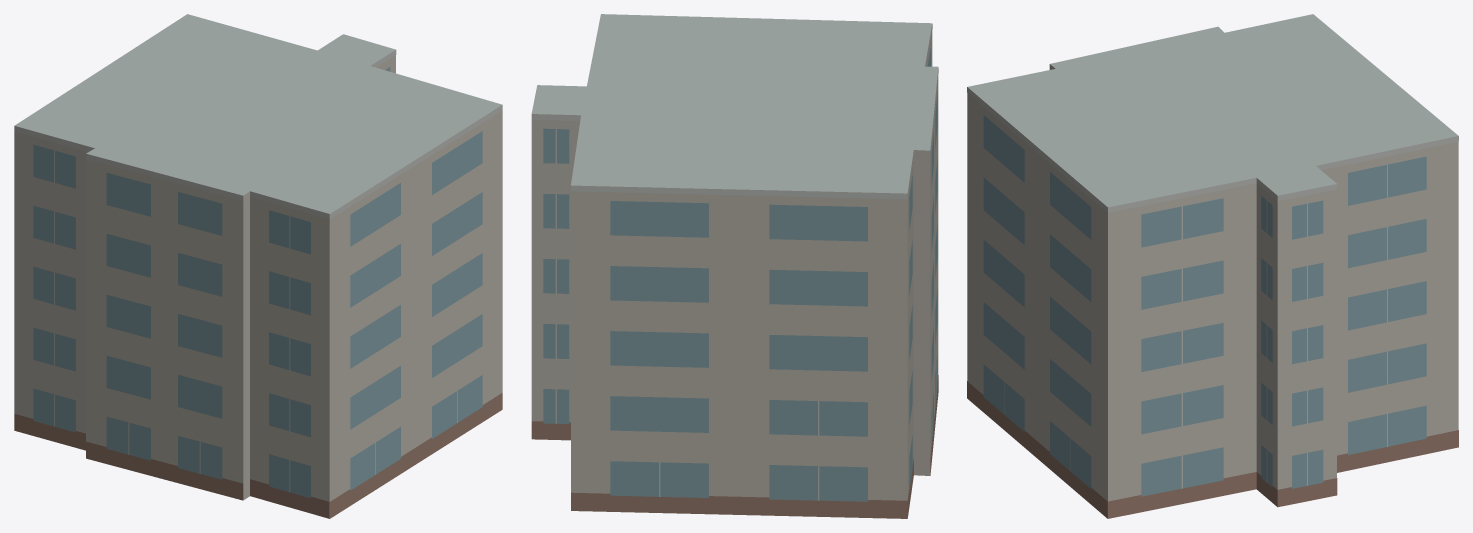
Rendered from survey-upis-32834129.glb.
The picture shows the model from 3 angles, left to right: view 1: azimuth 30°, elevation 25°; view 2: azimuth 150°, elevation 25°; view 3: azimuth 270°, elevation 25°; orthographic projection. The views are drawn at different scales.
Visible parts, largest first — view 1: survey-upis-32834129.tmp; view 2: survey-upis-32834129.tmp; view 3: survey-upis-32834129.tmp.
Part boxes in pixels (x1,y1,x2,y2): survey-upis-32834129.tmp: (14,14,502,518); survey-upis-32834129.tmp: (531,14,938,518); survey-upis-32834129.tmp: (967,14,1458,518).
Bounding box in the file's own units: 18.12 × 13.6 × 19.46.
